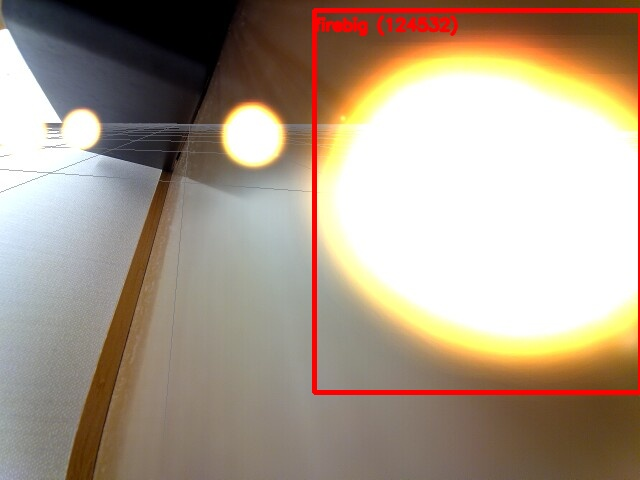firebig: (314, 10, 640, 392)
